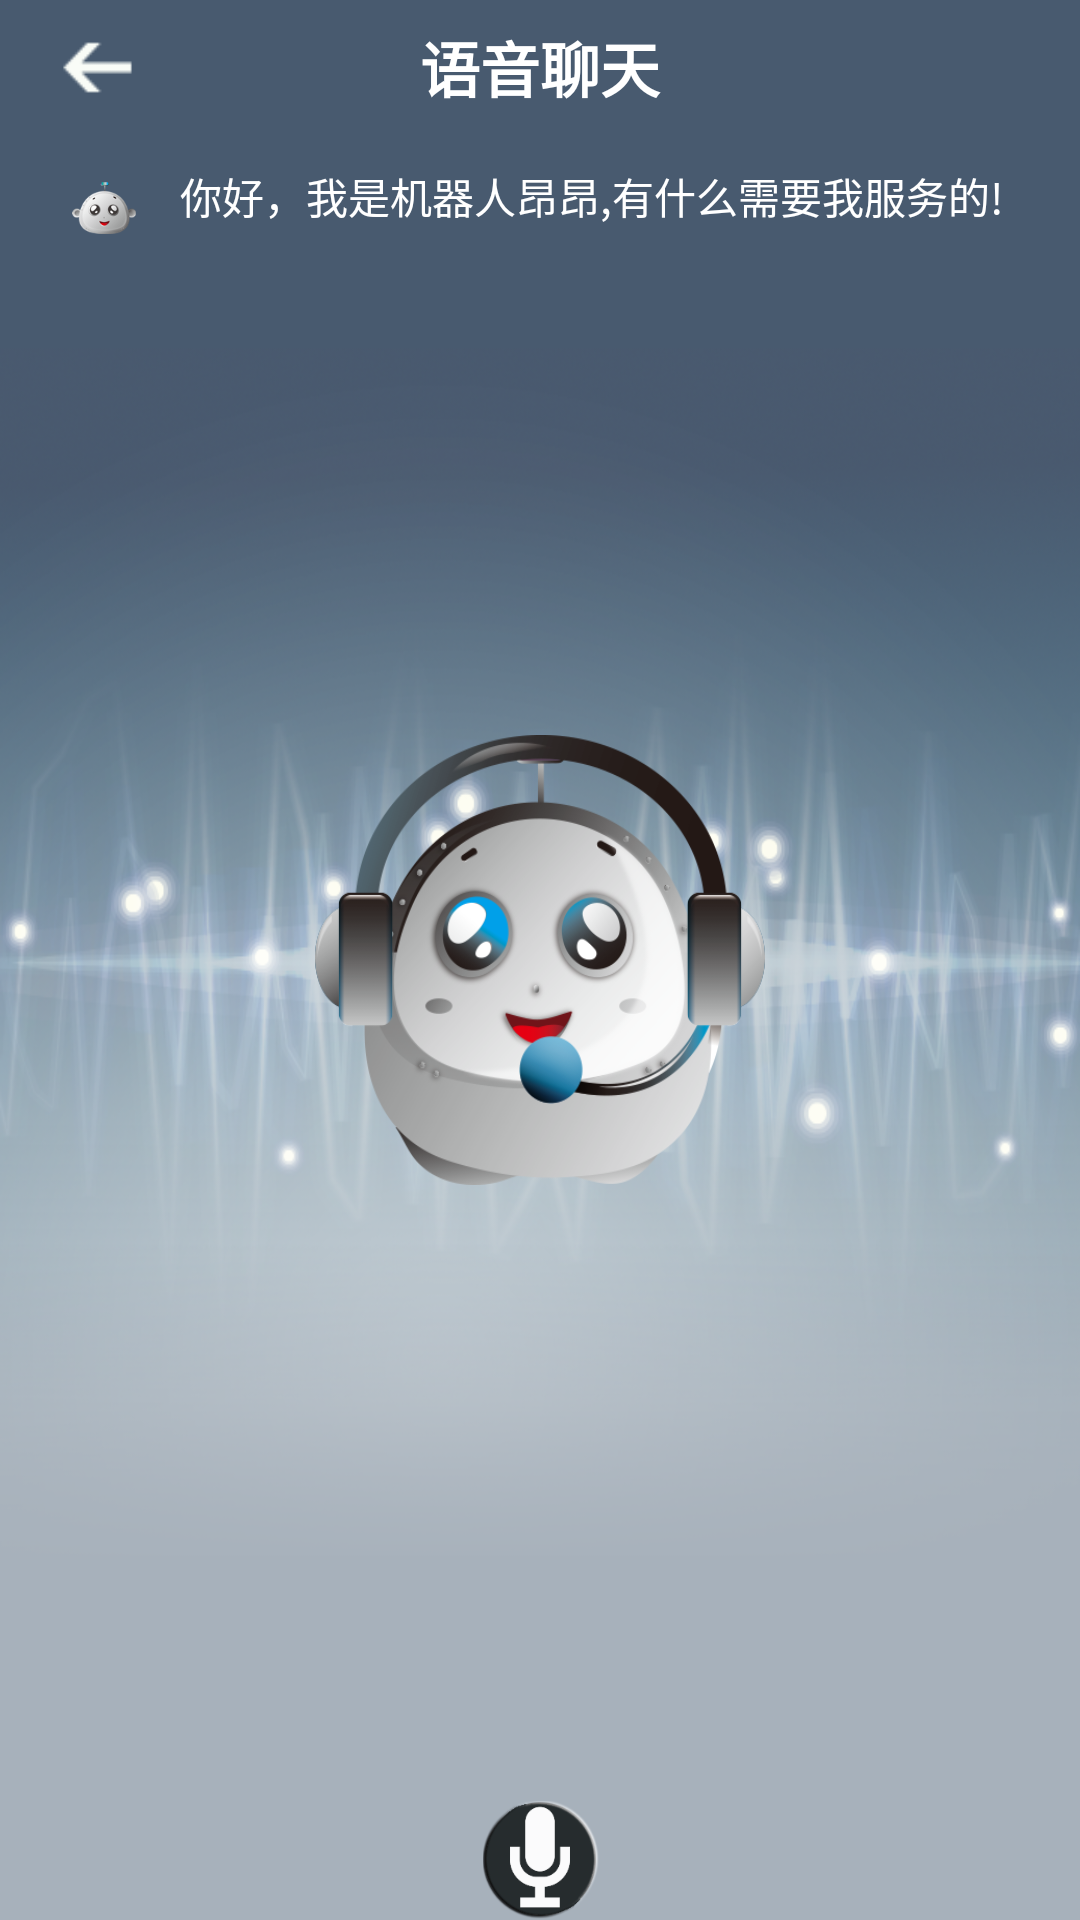

Screen size 1080×1920. Icon name, then its box in pixels as (x1, y1, x2, y2):
back: (63, 42, 132, 93)
